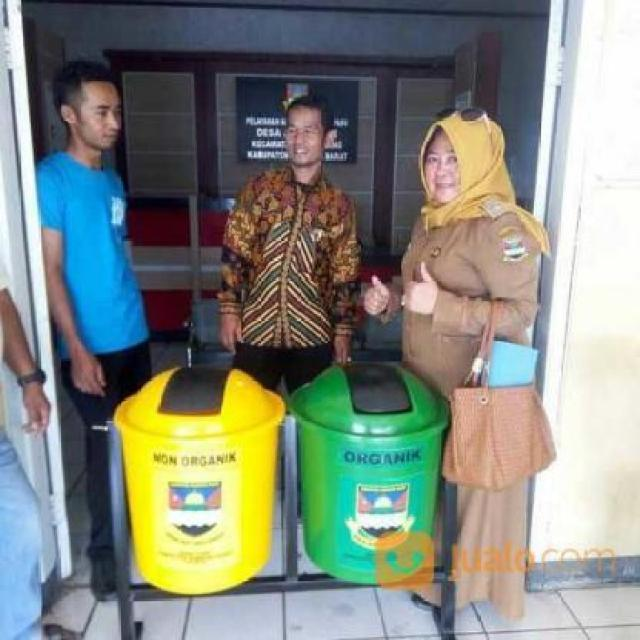garbage container: (109, 361, 288, 604), (289, 357, 460, 593)
